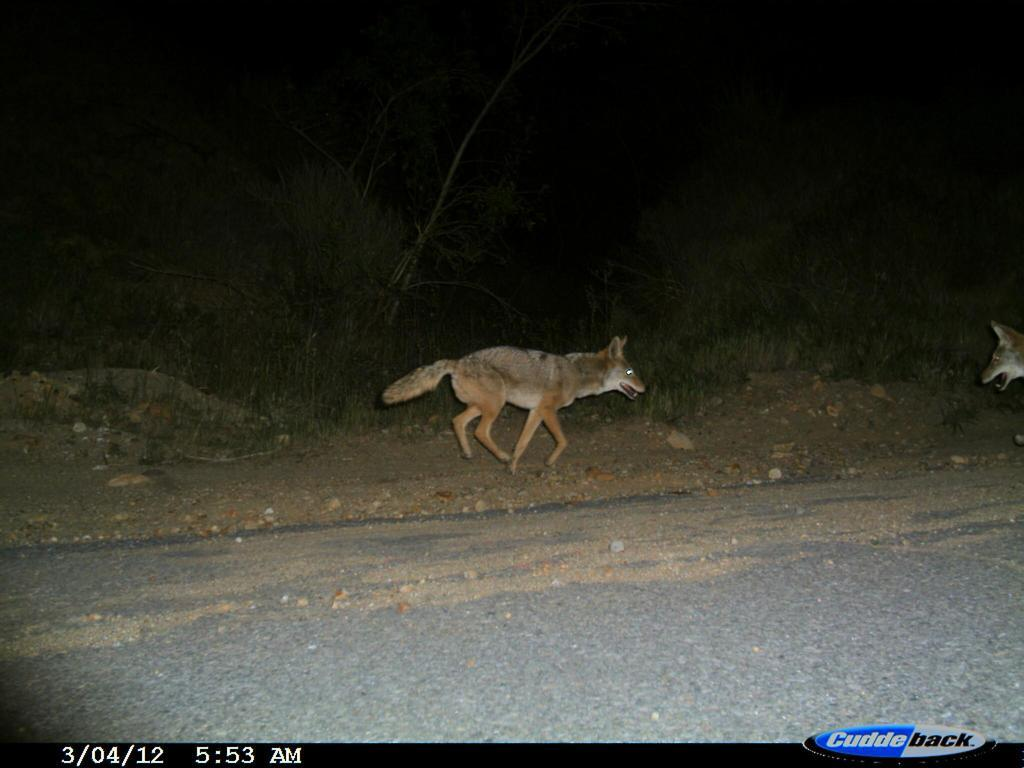coyote: (376, 323, 660, 485), (975, 313, 1024, 398)
